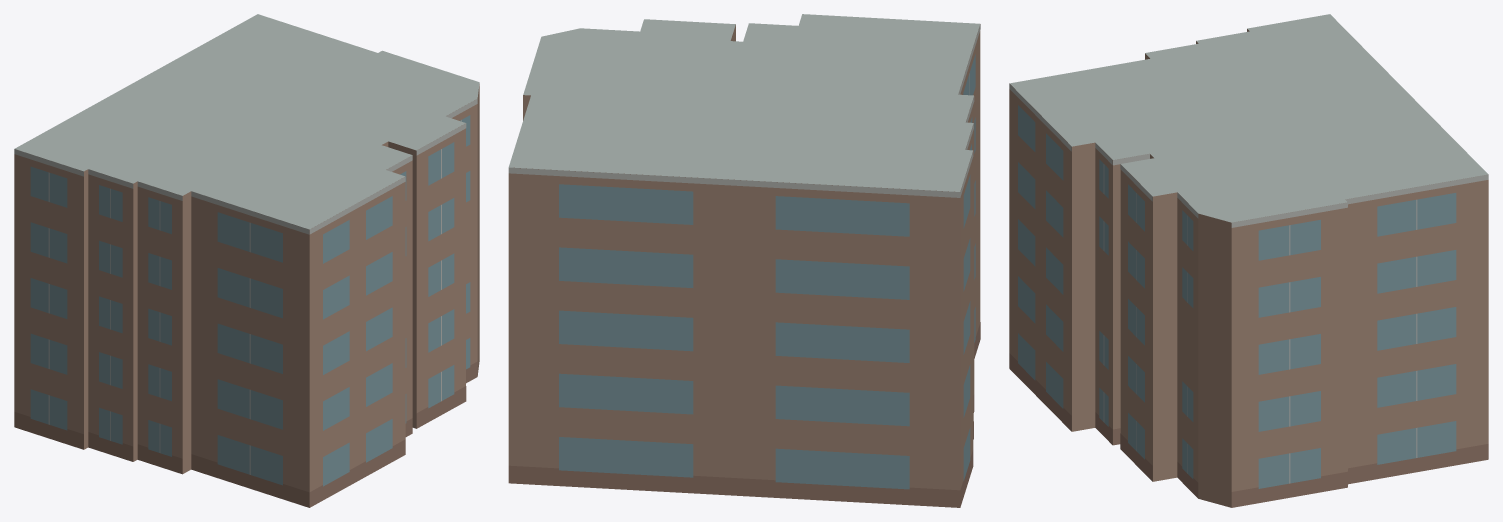
Rendered from survey-upis-32605808.glb.
3 views of the same model, side by side, from view 1: azimuth 30°, elevation 25°; view 2: azimuth 150°, elevation 25°; view 3: azimuth 270°, elevation 25° (orthographic). The views are drawn at different scales.
Parts seen in each view (by area): view 1: survey-upis-32605808.tmp; view 2: survey-upis-32605808.tmp; view 3: survey-upis-32605808.tmp.
Part boxes in pixels (<box>): survey-upis-32605808.tmp: <box>14,14,479,507</box>; survey-upis-32605808.tmp: <box>508,14,980,507</box>; survey-upis-32605808.tmp: <box>1009,14,1488,507</box>.
Bounding box in the file's own units: 20.42 × 13.01 × 19.81.
